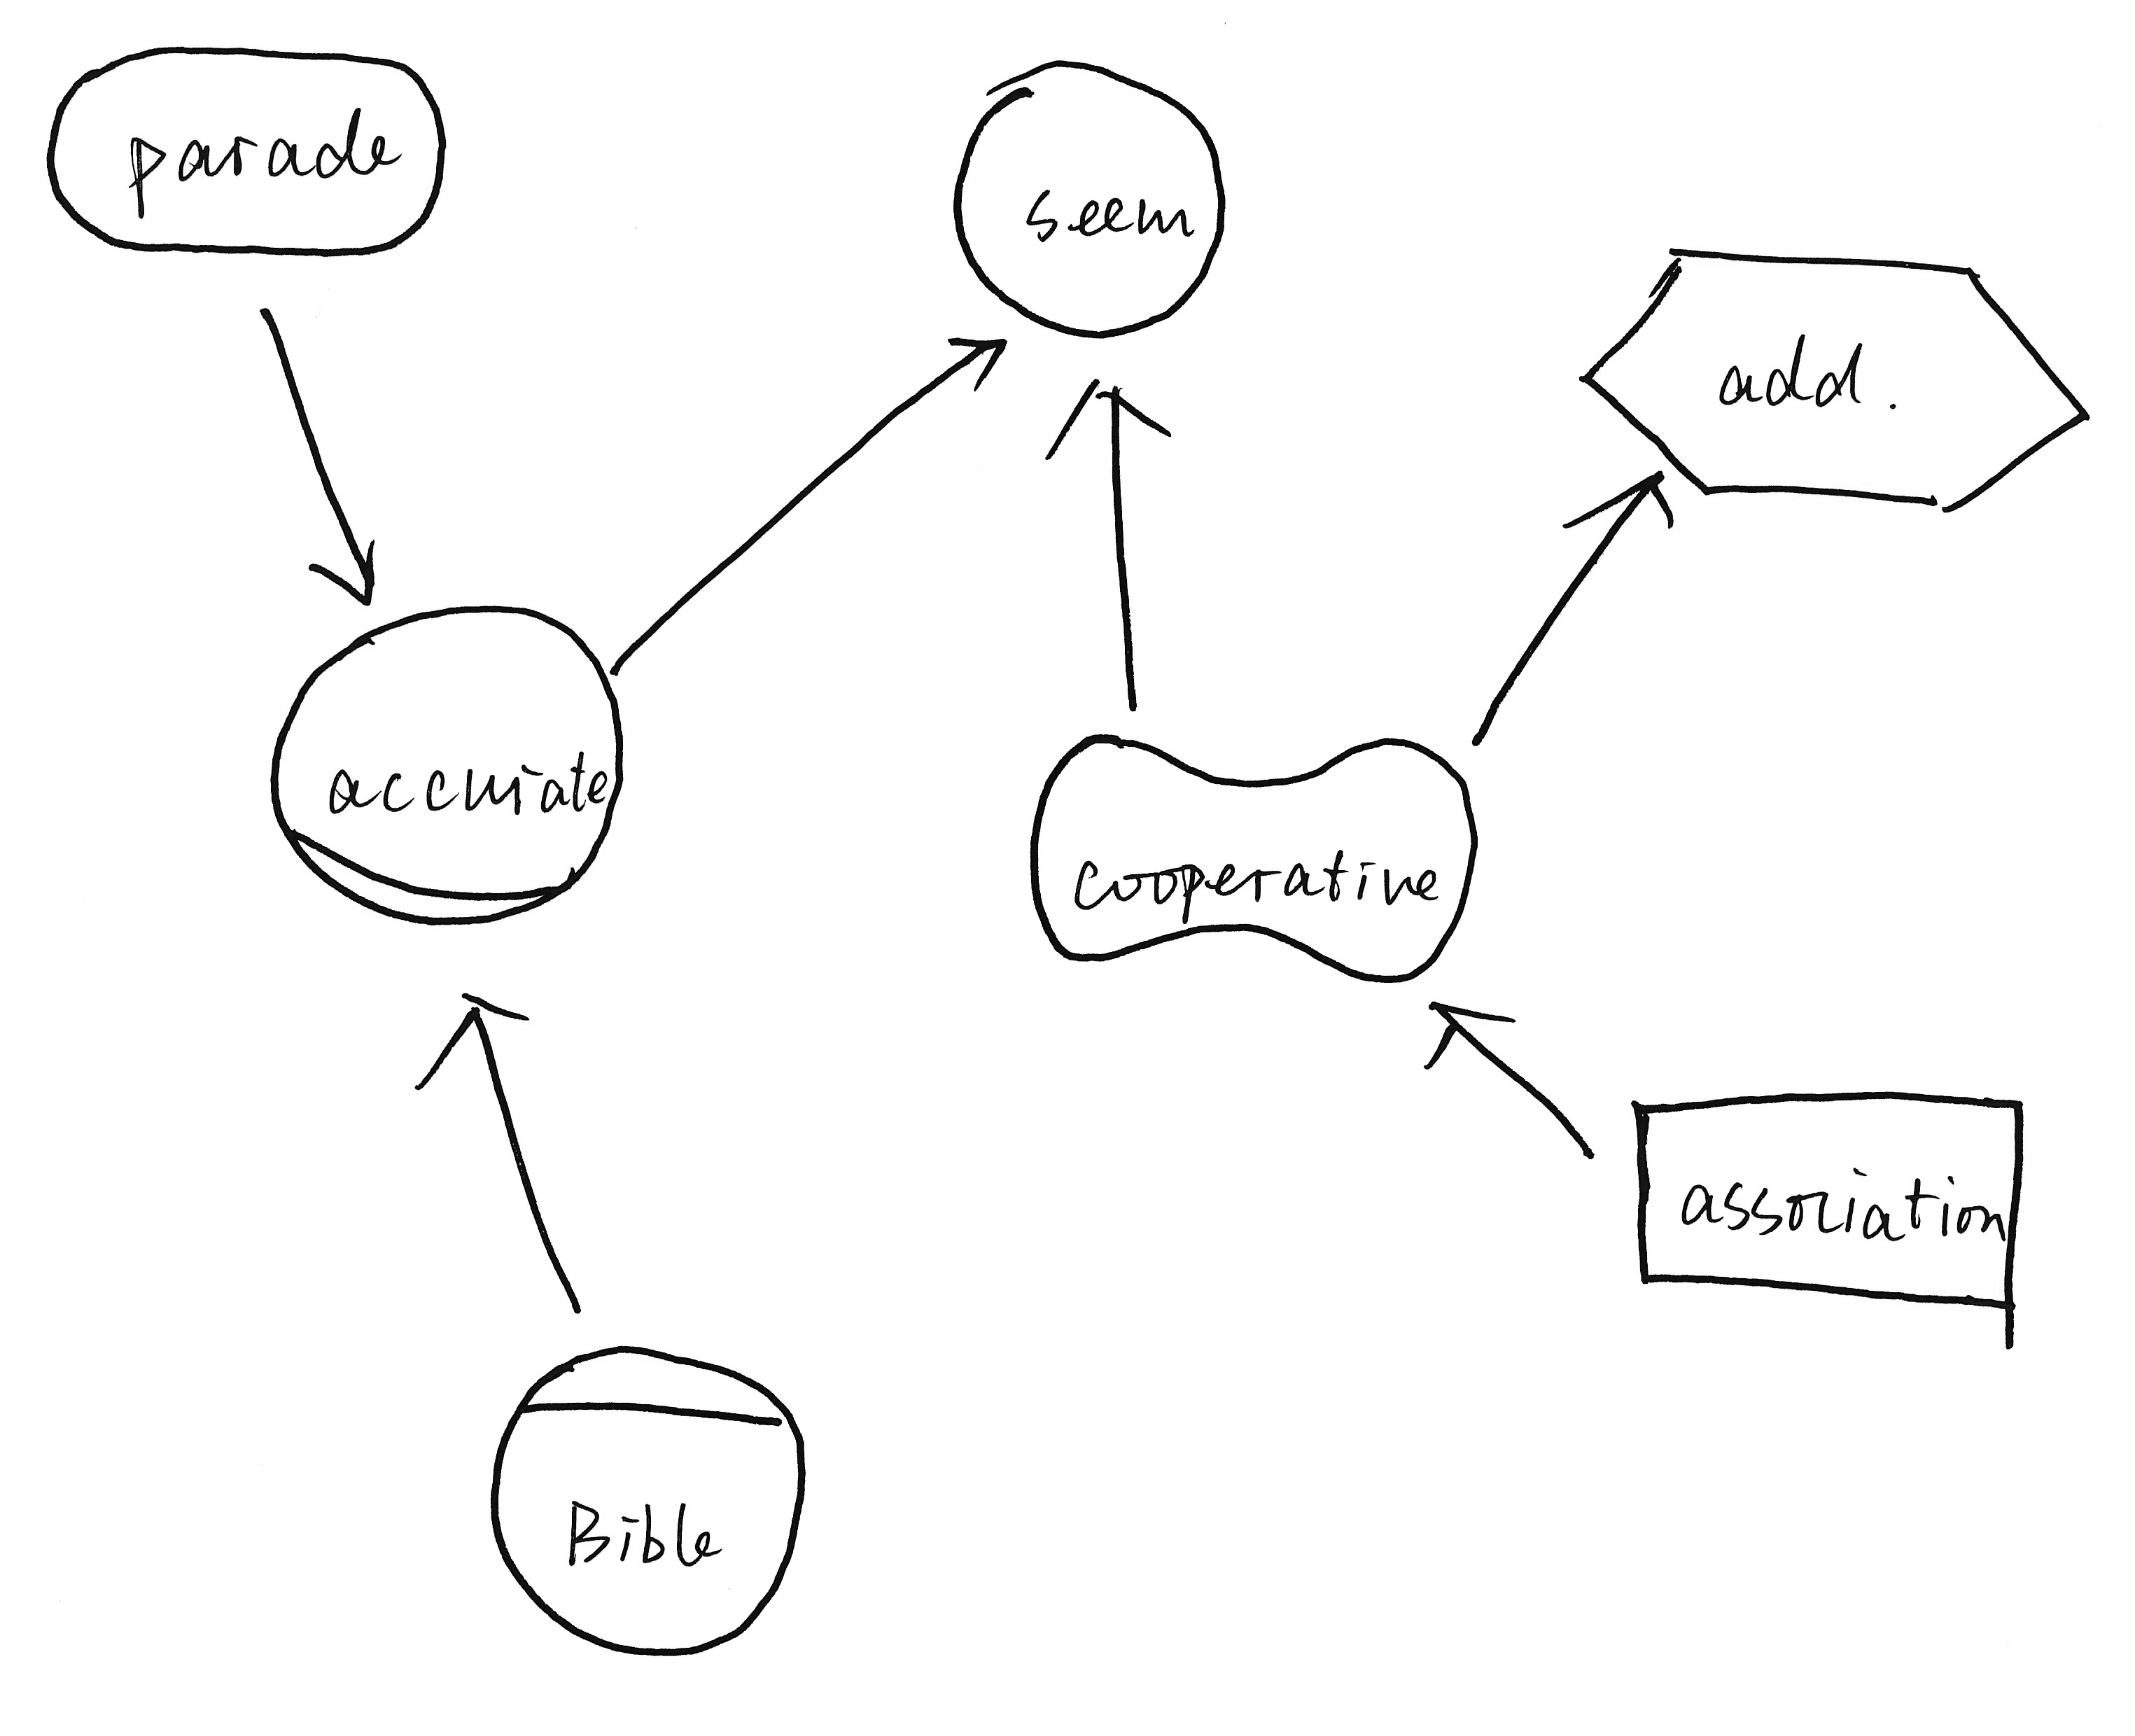actor: (937, 48, 1240, 347)
agent: (475, 1329, 819, 1670)
arrow: (399, 974, 547, 1105), (1038, 372, 1194, 475), (1552, 457, 1689, 549), (1403, 985, 1527, 1086), (298, 531, 400, 616), (930, 305, 1015, 400)
goal: (30, 23, 461, 273)
quality: (1010, 716, 1485, 1001)
resource: (1611, 1073, 2053, 1364)
role: (250, 588, 640, 949)
task: (1564, 223, 2107, 528)
